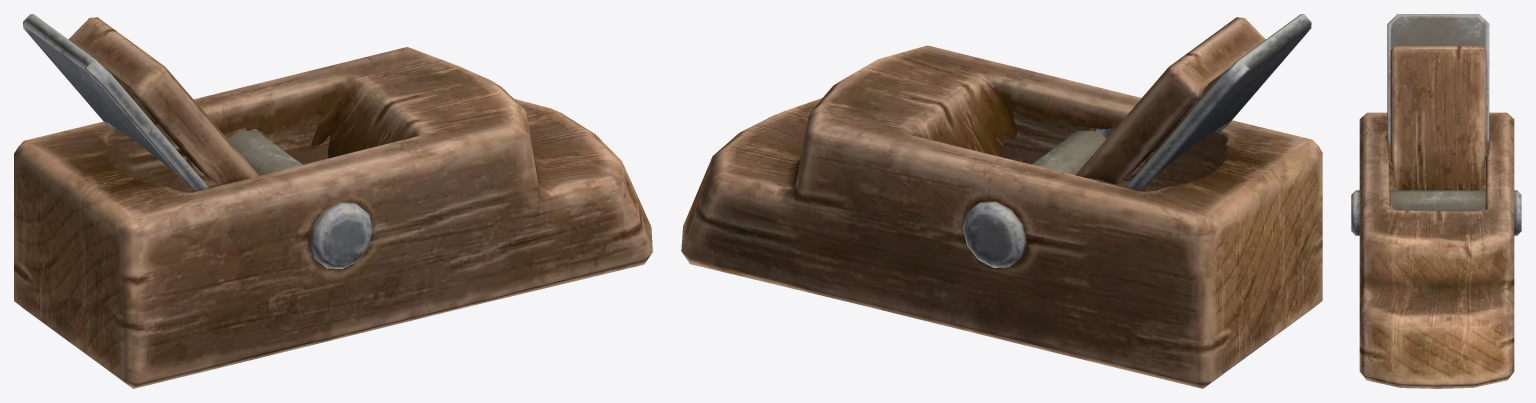
The picture shows the model from 3 angles, left to right: view 1: azimuth 30°, elevation 25°; view 2: azimuth 150°, elevation 25°; view 3: azimuth 270°, elevation 25°; orthographic projection. The views are drawn at different scales.
Visible parts, largest first — view 1: SM_Workshop_Tools_Planer_LOD0; view 2: SM_Workshop_Tools_Planer_LOD0; view 3: SM_Workshop_Tools_Planer_LOD0.
Boxes of the visible parts, box(x1,y1,x2,y2) form: SM_Workshop_Tools_Planer_LOD0: box(14, 14, 652, 388); SM_Workshop_Tools_Planer_LOD0: box(681, 14, 1322, 388); SM_Workshop_Tools_Planer_LOD0: box(1351, 14, 1521, 388).
Bounding box in the file's own units: 0.3653 × 0.1926 × 0.1473.
1 material, 1 textured.
